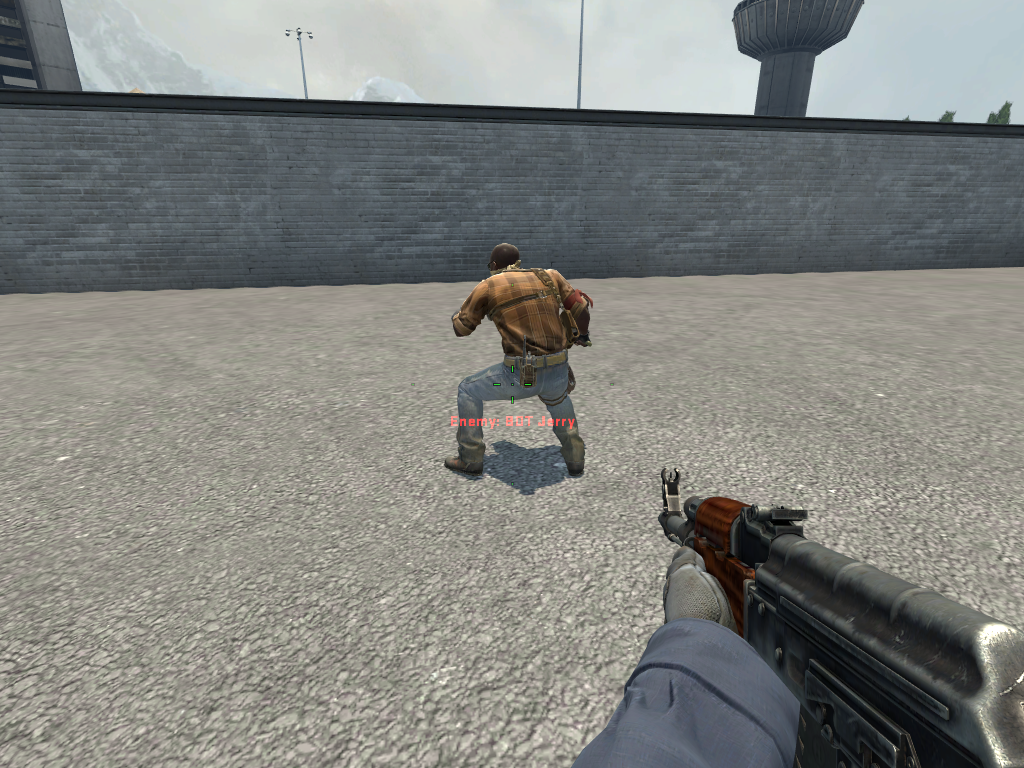tr head: (482, 238, 525, 286)
